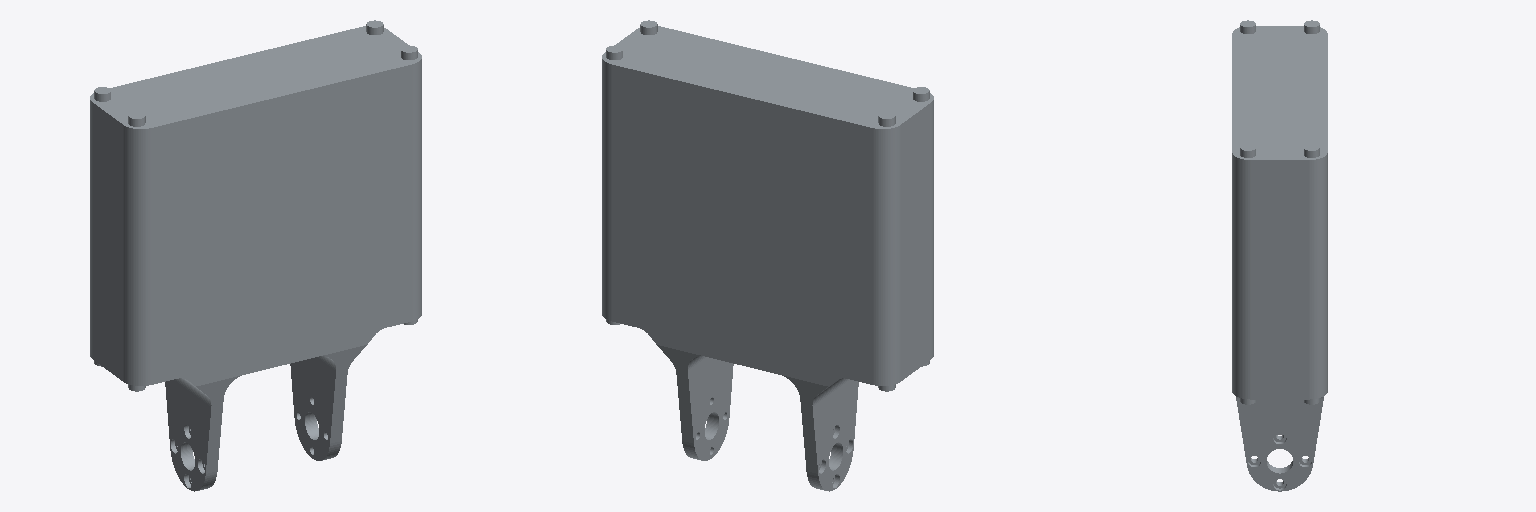
robot.urdf — sysID_XC430:
<?xml version="1.0" ?><robot name="sysID_XC430">  
  <link name="xc430">    
    <visual>      
      <origin xyz="0 0 0" rpy="0 -0 0"/>      
      <geometry>        
        <mesh filename="package:///meshes/xc430_visual.stl"/>        
      </geometry>      
      <material name="xc430_material">        
        <color rgba="0.44786462886842598463 0.5373344895746794414 0.69800988116095852298 1.0"/>        
      </material>      
    </visual>    
    <collision>      
      <origin xyz="0 0 0" rpy="0 -0 0"/>      
      <geometry>        
        <mesh filename="package:///meshes/xc430_collision.stl"/>        
      </geometry>      
    </collision>    
    <inertial>      
      <origin xyz="0.0709224439626469777 0.016712412139443657416 0.005543011911192575851" rpy="0 0 0"/>      
      <mass value="0.086449999993020207323"/>      
      <inertia ixx="2.7835937895289607013e-05" ixy="-5.7442278246997958779e-06" ixz="-3.9581376465514811914e-08" iyy="2.9061697096171238287e-05" iyz="-5.0973493978072786503e-08" izz="4.3242134177797572506e-05"/>      
    </inertial>    
  </link>  

  <link name="arm_430">    
    <visual>      
      <origin xyz="0 0 0" rpy="0 -0 0"/>      
      <geometry>        
        <mesh filename="package:///meshes/arm_430_visual.stl"/>        
      </geometry>      
      <material name="arm_430_material">        
        <color rgba="0.62999456499017503219 0.65518625360592019913 0.6781537689702749061 1.0"/>        
      </material>      
    </visual>    
    <collision>      
      <origin xyz="0 0 0" rpy="0 -0 0"/>      
      <geometry>        
        <mesh filename="package:///meshes/arm_430_collision.stl"/>        
      </geometry>      
    </collision>    
    <inertial>      
      <origin xyz="-0.072230555077122740593 -1.7460798580073727076e-17 -0.0190000000000000481" rpy="0 0 0"/>      
      <mass value="0.23449999999999993072"/>      
      <inertia ixx="0.00023538980795506243815" ixy="-2.5358048858425616401e-20" ixz="-5.3151317440207346277e-20" iyy="0.00036901840263902106537" iyz="1.4658762773094762347e-16" izz="0.00018448272046932707438"/>      
    </inertial>    
  </link>  

  <joint name="joint_0" type="revolute">    
    <origin xyz="0.054999999999999681088 0.032699857927858962114 0.0055693959459660142761" rpy="1.57079632679489678 -5.5511151231258061214e-17 -1.5707963267948972241"/>    
    <parent link="xc430"/>    
    <child link="arm_430"/>    
    <axis xyz="0 0 1"/>    
    <limit effort="1" velocity="20" lower="-1.570796326794896558" upper="1.570796326794896558"/>    
    <joint_properties friction="0.0"/>    
  </joint>  


</robot>

--- Facts derived from the render (not from the file) ---
The picture shows the robot from 3 angles, left to right: view 1: azimuth 30°, elevation 25°; view 2: azimuth 150°, elevation 25°; view 3: azimuth 270°, elevation 25°; orthographic projection.
Model sysID_XC430 with 2 links and 1 joints (1 revolute), rooted at xc430, posed all joints at 0.
Visible links, largest first — view 1: arm_430; view 2: arm_430; view 3: arm_430.
Boxes of the visible links, <box> form: arm_430: <box>90,20,421,491</box>; arm_430: <box>602,20,933,491</box>; arm_430: <box>1232,20,1327,491</box>.
Size in the robot's own frame: 0.1 by 0.03 by 0.13 metres.
1 mesh visuals loaded from 2 distinct referenced files (1 binary STL); not drawn: 1 (reference not matched to a file when rendering).